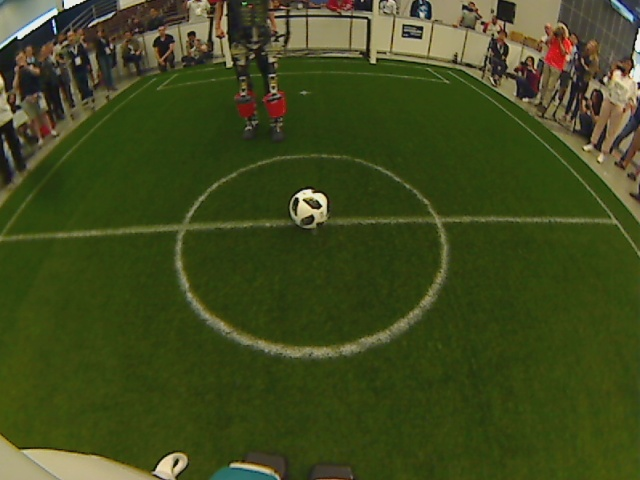ball: (284, 185, 333, 233)
